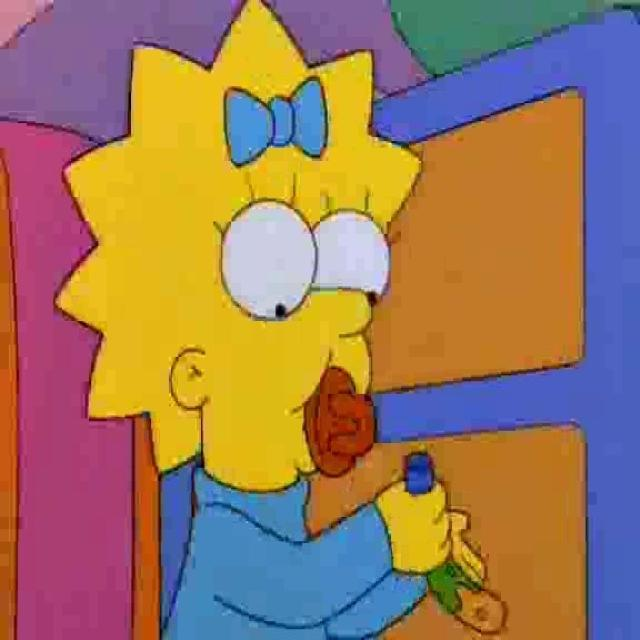Maggie Simpson: (52, 0, 425, 495)
